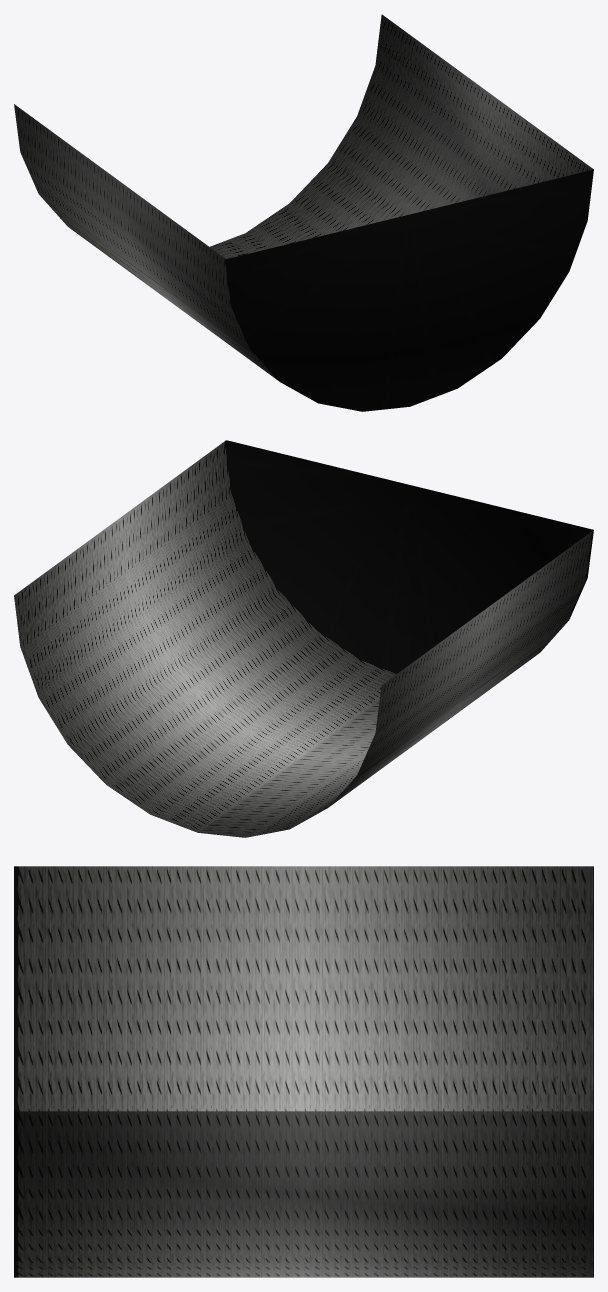
File: stage.fbx
3 views of the same model, one above another, from view 1: azimuth 30°, elevation 25°; view 2: azimuth 150°, elevation 25°; view 3: azimuth 270°, elevation 25° (orthographic). The views are drawn at different scales.
Parts seen in each view (by area): view 1: obj1; view 2: obj1; view 3: obj1.
Part boxes in pixels (x1,y1,x2,y2): obj1: [14, 14, 593, 411]; obj1: [14, 440, 593, 837]; obj1: [14, 866, 593, 1277].
Bounding box in the file's own units: 200 × 100 × 200.
1 material, 1 textured.
